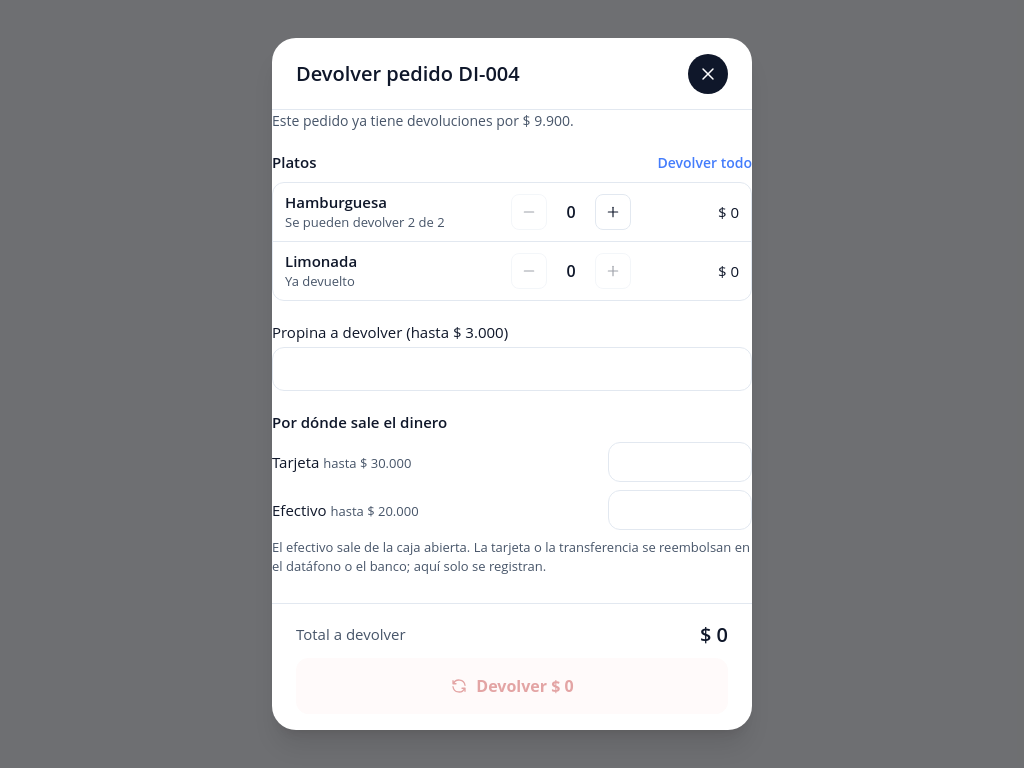
Scenario: devolver todo elige lo que queda
Click the button "Devolver todo". click: (705, 163)
box: top-left (657, 152), bottom-right (752, 173)
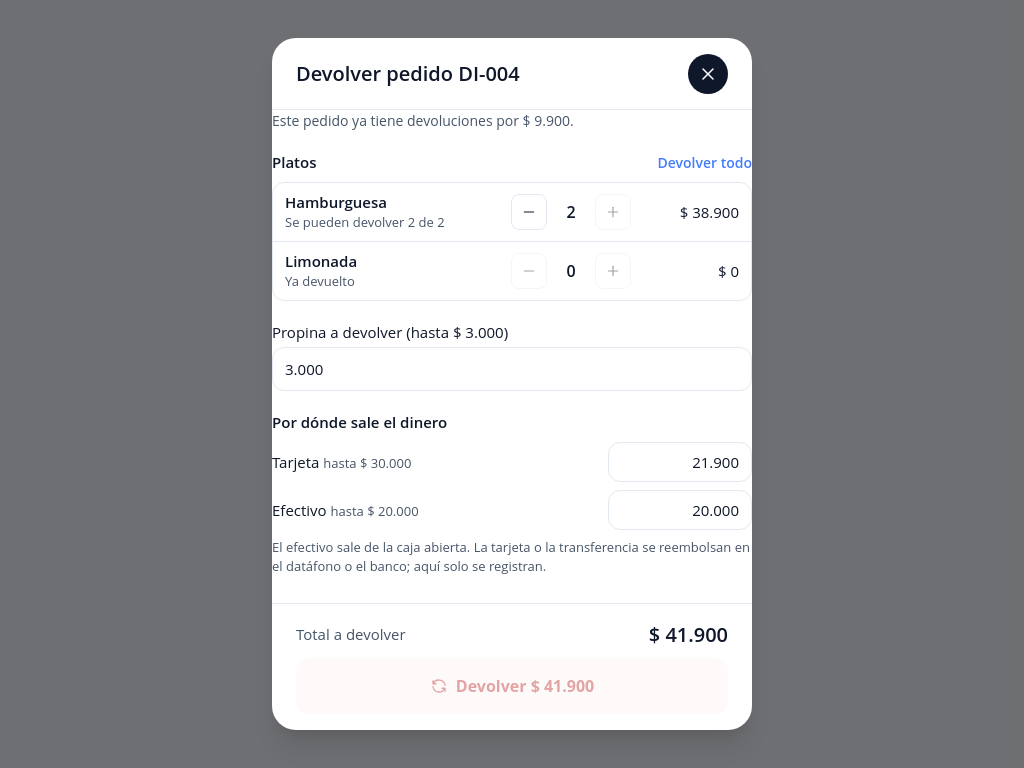
Expected: the button "Devolver $ 41.900" is shown, top-left (296, 658), bottom-right (728, 714)
